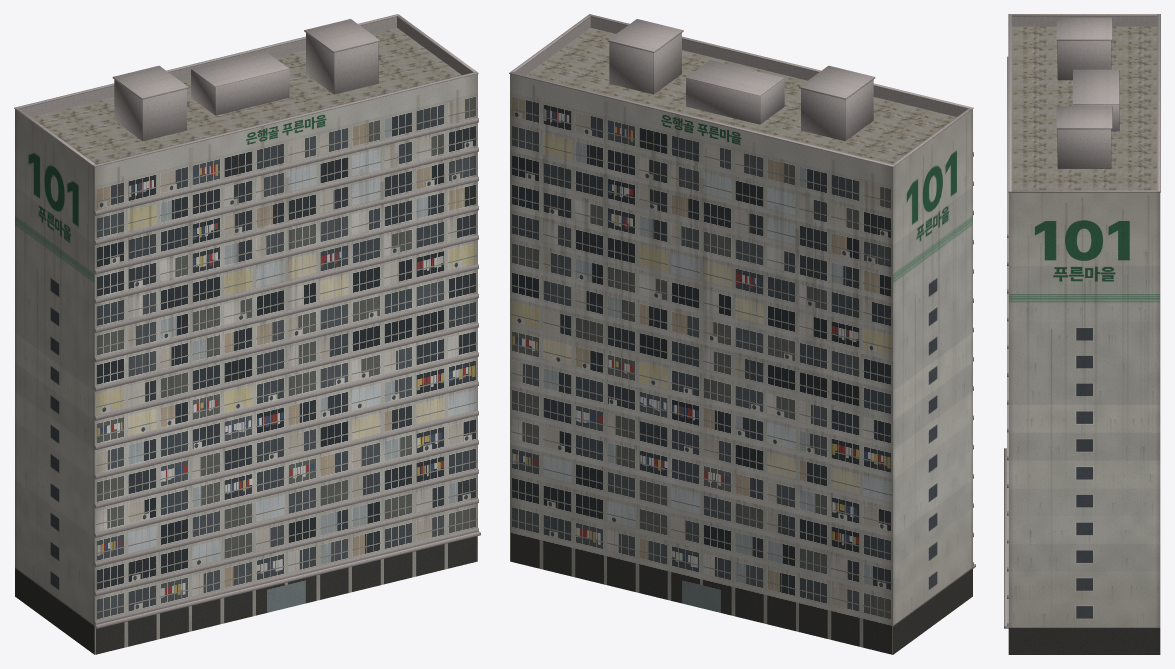
The model's file is BuildingBackdrop.fbx.
3 views of the same model, side by side, from view 1: azimuth 30°, elevation 25°; view 2: azimuth 150°, elevation 25°; view 3: azimuth 270°, elevation 25° (orthographic). The views are drawn at different scales.
Visible parts, largest first — view 1: BuildingBackdrop; view 2: BuildingBackdrop; view 3: BuildingBackdrop.
Part boxes in pixels (left/top/right/bottom): BuildingBackdrop: left=14, top=14, right=480, bottom=654; BuildingBackdrop: left=509, top=14, right=975, bottom=654; BuildingBackdrop: left=1004, top=14, right=1160, bottom=654.
Bounding box in the file's own units: 36.1 × 46.72 × 13.45.
